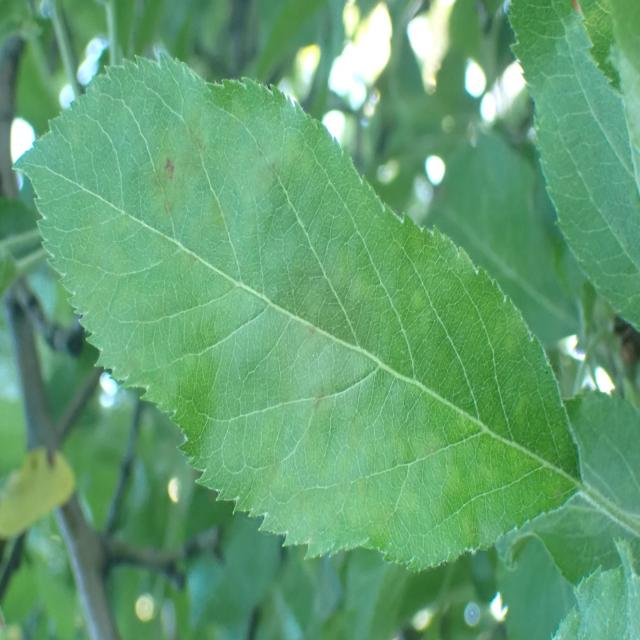scab: (111, 108, 522, 479)
